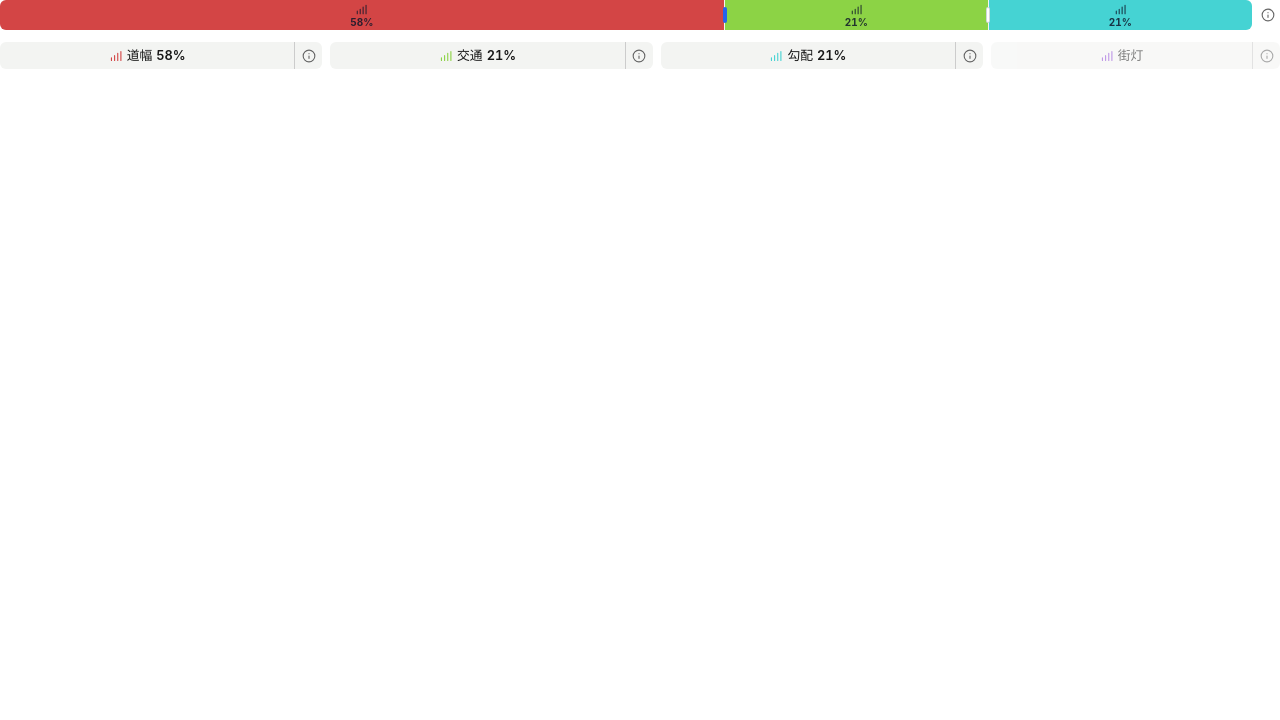
Test: RouteSettingsPanel 配分の帯 › 合計が1でない配分でも、区切りは割合の上限（説明の文の%）で止まる
This screenshot has width=1280, height=720.
Expected: the button "道幅 58%" is shown, [0, 42, 294, 69]
Press Arrowright
Click the button named "重みの配分の説明を表示" at (1268, 15), box [1256, 3, 1279, 27]
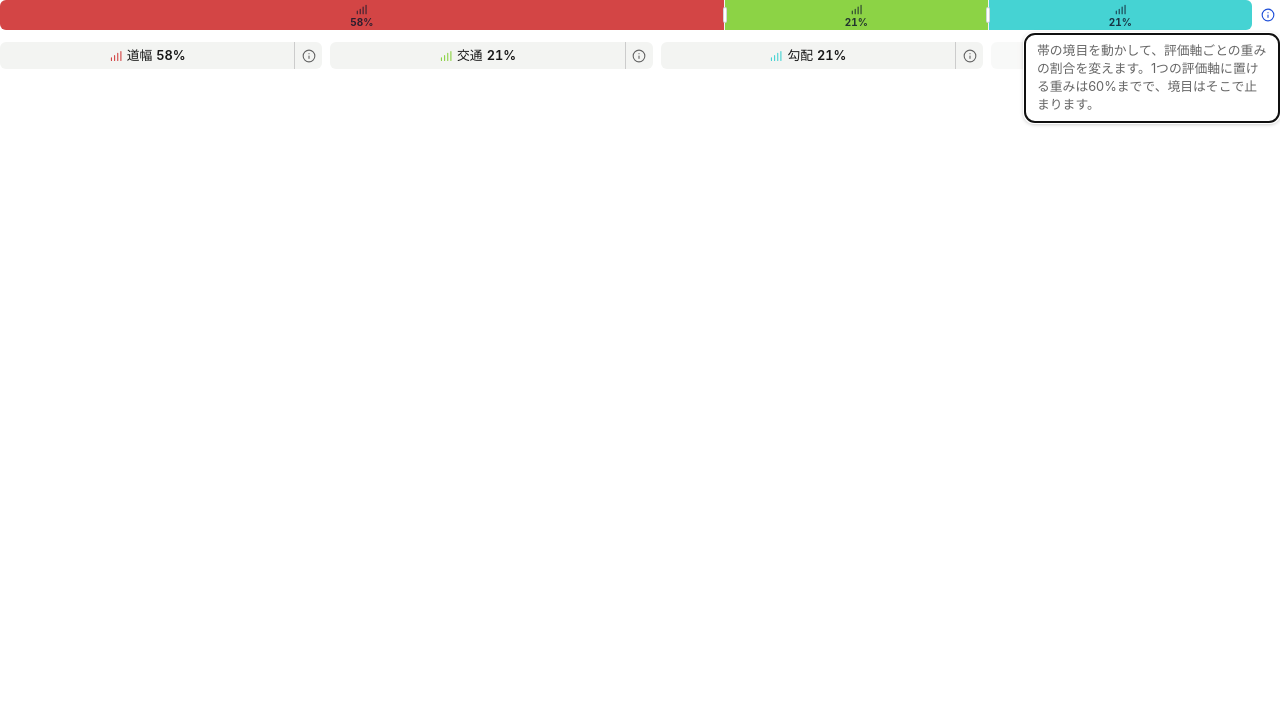
Expected: the text "帯の境目を動かして、評価軸ごとの重みの割合を変えます。1つの評価軸に置ける重みは60%までで、境目はそこで止まります。" is shown, [1024, 33, 1279, 123]
